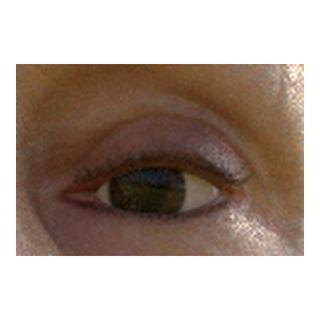pupil: (129, 173, 162, 206)
